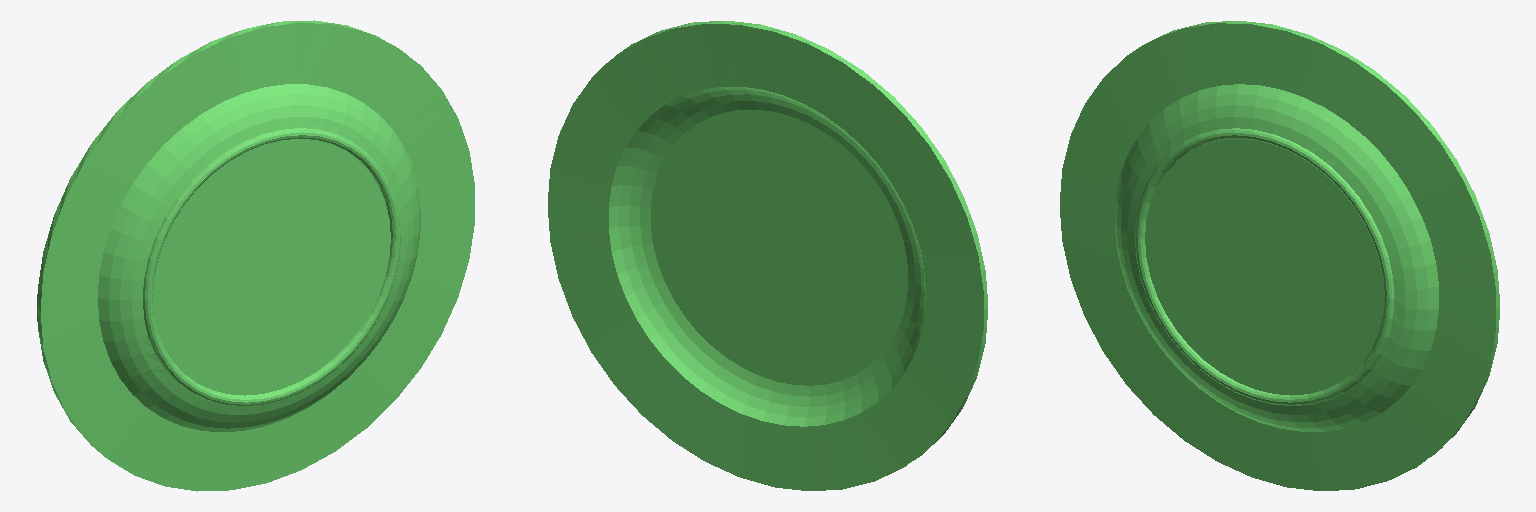
The robot description file, URDF, robot "plate_11in_decomp":
<robot xmlns:drake="drake.mit.edu" name="plate_11in_decomp">
  <link name="plate_11in_decomp_body_link">
    <inertial>
      <origin xyz="-2.80E-05 -1.04E-02 -1.34E-06" rpy="0 0 0"/>
      <mass value="2.82E-01"/>
      <inertia ixx="1.3738E-03" ixy="6.2120E-06" ixz="-1.2792E-08" iyy="2.7213E-03" iyz="-3.5786E-09" izz="1.3739E-03"/>
    </inertial>
    <visual>
      <origin xyz="0 0 0" rpy="0 0 0"/>
      <geometry>
        <mesh filename="plate_11in_decomp_visual.obj" scale="1.0000E+00 1.0000E+00 1.0000E+00"/>
      </geometry>
      <material name="">
        <color rgba="5.00E-01 9.00E-01 5.00E-01 1.00E+00"/>
      </material>
    </visual>
    <collision>
      <origin xyz="0 0 0" rpy="0 0 0"/>
      <geometry>
        <mesh filename="plate_11in_decomp_convex_piece_0.obj" scale="1.0000E+00 1.0000E+00 1.0000E+00">
          <drake:declare_convex/>
        </mesh>
      </geometry>
    </collision>
    <collision>
      <origin xyz="0 0 0" rpy="0 0 0"/>
      <geometry>
        <mesh filename="plate_11in_decomp_convex_piece_1.obj" scale="1.0000E+00 1.0000E+00 1.0000E+00">
          <drake:declare_convex/>
        </mesh>
      </geometry>
    </collision>
    <collision>
      <origin xyz="0 0 0" rpy="0 0 0"/>
      <geometry>
        <mesh filename="plate_11in_decomp_convex_piece_2.obj" scale="1.0000E+00 1.0000E+00 1.0000E+00">
          <drake:declare_convex/>
        </mesh>
      </geometry>
    </collision>
    <collision>
      <origin xyz="0 0 0" rpy="0 0 0"/>
      <geometry>
        <mesh filename="plate_11in_decomp_convex_piece_3.obj" scale="1.0000E+00 1.0000E+00 1.0000E+00">
          <drake:declare_convex/>
        </mesh>
      </geometry>
    </collision>
    <collision>
      <origin xyz="0 0 0" rpy="0 0 0"/>
      <geometry>
        <mesh filename="plate_11in_decomp_convex_piece_4.obj" scale="1.0000E+00 1.0000E+00 1.0000E+00">
          <drake:declare_convex/>
        </mesh>
      </geometry>
    </collision>
    <collision>
      <origin xyz="0 0 0" rpy="0 0 0"/>
      <geometry>
        <mesh filename="plate_11in_decomp_convex_piece_5.obj" scale="1.0000E+00 1.0000E+00 1.0000E+00">
          <drake:declare_convex/>
        </mesh>
      </geometry>
    </collision>
    <collision>
      <origin xyz="0 0 0" rpy="0 0 0"/>
      <geometry>
        <mesh filename="plate_11in_decomp_convex_piece_6.obj" scale="1.0000E+00 1.0000E+00 1.0000E+00">
          <drake:declare_convex/>
        </mesh>
      </geometry>
    </collision>
    <collision>
      <origin xyz="0 0 0" rpy="0 0 0"/>
      <geometry>
        <mesh filename="plate_11in_decomp_convex_piece_7.obj" scale="1.0000E+00 1.0000E+00 1.0000E+00">
          <drake:declare_convex/>
        </mesh>
      </geometry>
    </collision>
    <collision>
      <origin xyz="0 0 0" rpy="0 0 0"/>
      <geometry>
        <mesh filename="plate_11in_decomp_convex_piece_8.obj" scale="1.0000E+00 1.0000E+00 1.0000E+00">
          <drake:declare_convex/>
        </mesh>
      </geometry>
    </collision>
    <collision>
      <origin xyz="0 0 0" rpy="0 0 0"/>
      <geometry>
        <mesh filename="plate_11in_decomp_convex_piece_9.obj" scale="1.0000E+00 1.0000E+00 1.0000E+00">
          <drake:declare_convex/>
        </mesh>
      </geometry>
    </collision>
    <collision>
      <origin xyz="0 0 0" rpy="0 0 0"/>
      <geometry>
        <mesh filename="plate_11in_decomp_convex_piece_10.obj" scale="1.0000E+00 1.0000E+00 1.0000E+00">
          <drake:declare_convex/>
        </mesh>
      </geometry>
    </collision>
    <collision>
      <origin xyz="0 0 0" rpy="0 0 0"/>
      <geometry>
        <mesh filename="plate_11in_decomp_convex_piece_11.obj" scale="1.0000E+00 1.0000E+00 1.0000E+00">
          <drake:declare_convex/>
        </mesh>
      </geometry>
    </collision>
    <collision>
      <origin xyz="0 0 0" rpy="0 0 0"/>
      <geometry>
        <mesh filename="plate_11in_decomp_convex_piece_12.obj" scale="1.0000E+00 1.0000E+00 1.0000E+00">
          <drake:declare_convex/>
        </mesh>
      </geometry>
    </collision>
    <collision>
      <origin xyz="0 0 0" rpy="0 0 0"/>
      <geometry>
        <mesh filename="plate_11in_decomp_convex_piece_13.obj" scale="1.0000E+00 1.0000E+00 1.0000E+00">
          <drake:declare_convex/>
        </mesh>
      </geometry>
    </collision>
    <collision>
      <origin xyz="0 0 0" rpy="0 0 0"/>
      <geometry>
        <mesh filename="plate_11in_decomp_convex_piece_14.obj" scale="1.0000E+00 1.0000E+00 1.0000E+00">
          <drake:declare_convex/>
        </mesh>
      </geometry>
    </collision>
    <collision>
      <origin xyz="0 0 0" rpy="0 0 0"/>
      <geometry>
        <mesh filename="plate_11in_decomp_convex_piece_15.obj" scale="1.0000E+00 1.0000E+00 1.0000E+00">
          <drake:declare_convex/>
        </mesh>
      </geometry>
    </collision>
  </link>
</robot>

--- Render facts (derived) ---
3 views of the same robot in one strip: view 1: azimuth 30°, elevation 25°; view 2: azimuth 150°, elevation 25°; view 3: azimuth 330°, elevation 25° (orthographic).
Model plate_11in_decomp with 1 links and 0 joints (none), rooted at plate_11in_decomp_body_link, posed all joints at 0.
Visible links, largest first — view 1: plate_11in_decomp_body_link; view 2: plate_11in_decomp_body_link; view 3: plate_11in_decomp_body_link.
Link boxes in pixels (left/top/right/bottom): plate_11in_decomp_body_link: left=37, top=20, right=474, bottom=491; plate_11in_decomp_body_link: left=548, top=21, right=987, bottom=490; plate_11in_decomp_body_link: left=1060, top=21, right=1499, bottom=490.
Bounding box of the posed robot: 0.2797 × 0.023 × 0.2796 m (x, y, z).
1 mesh visuals loaded from 1 distinct referenced files (1 OBJ).